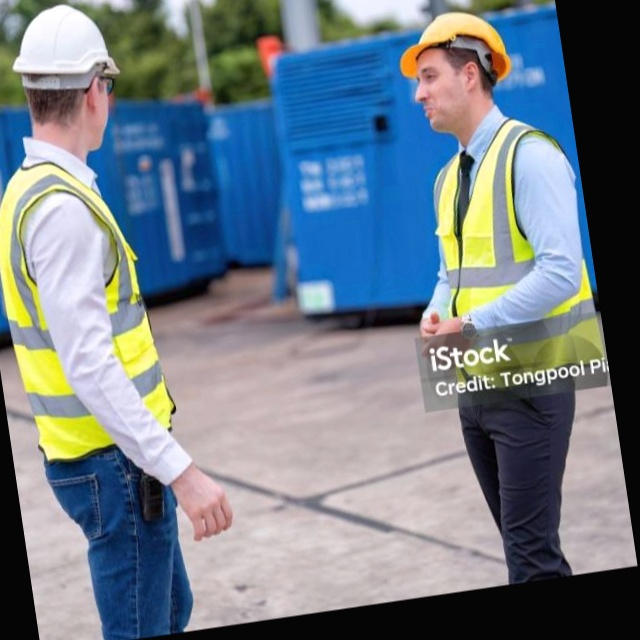Con_Casco: (7, 0, 132, 160)
Con_Chaleco: (0, 148, 176, 463)
